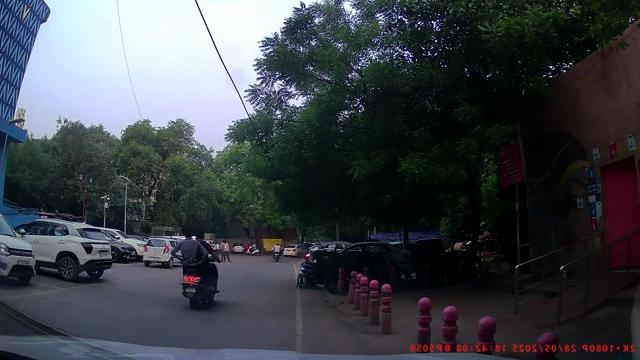passenger_without_helmet: (175, 227, 221, 310)
